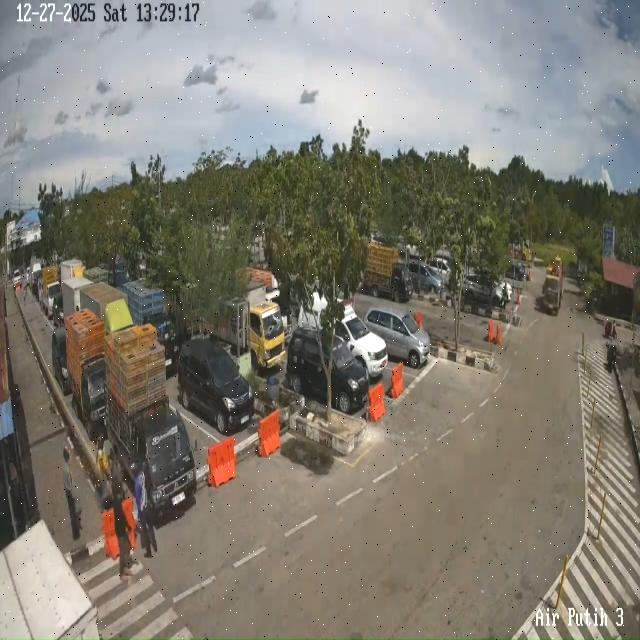Golongan IVA: (298, 293, 388, 377), (178, 339, 254, 434), (286, 328, 369, 413), (364, 306, 430, 368), (52, 327, 72, 396), (407, 259, 444, 294), (52, 291, 64, 327)
Golongan IVB: (106, 389, 202, 526), (69, 341, 115, 446), (362, 243, 413, 302)
Golongan VB: (541, 249, 563, 316)
